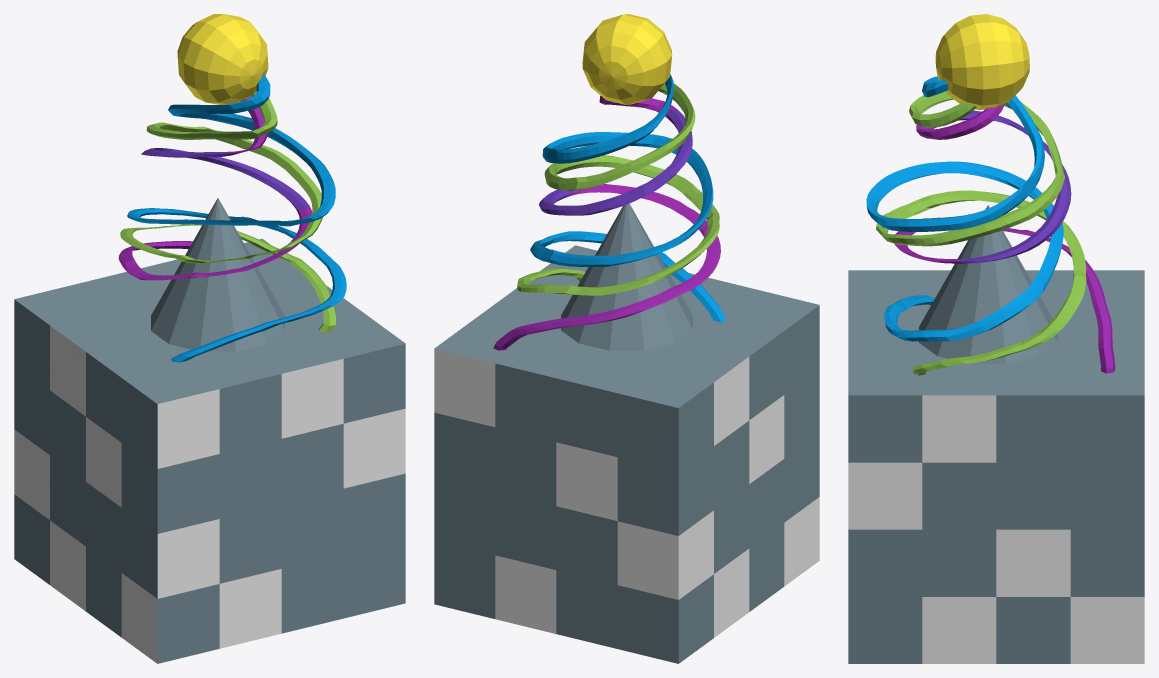
3 views of the same model, side by side, from view 1: azimuth 30°, elevation 25°; view 2: azimuth 150°, elevation 25°; view 3: azimuth 270°, elevation 25° (orthographic). The views are drawn at different scales.
Parts seen in each view (by area): view 1: mesh_705144847, mesh_434373693, group_550851454, mesh_2126626066, group_1324222474, group_1786026587; view 2: mesh_705144847, mesh_434373693, group_550851454, group_1786026587, group_1324222474, mesh_2126626066; view 3: mesh_705144847, group_550851454, mesh_434373693, group_1324222474, mesh_2126626066, group_1786026587.
Part boxes in pixels (bbox=[...]): mesh_705144847: bbox=[14, 238, 405, 663]; mesh_434373693: bbox=[151, 198, 284, 351]; group_550851454: bbox=[127, 74, 346, 362]; mesh_2126626066: bbox=[177, 14, 268, 104]; group_1324222474: bbox=[120, 91, 335, 332]; group_1786026587: bbox=[118, 96, 312, 280]; mesh_705144847: bbox=[434, 245, 819, 663]; mesh_434373693: bbox=[561, 203, 692, 350]; group_550851454: bbox=[530, 74, 726, 322]; group_1786026587: bbox=[493, 95, 720, 350]; group_1324222474: bbox=[517, 83, 719, 295]; mesh_2126626066: bbox=[582, 14, 672, 104]; mesh_705144847: bbox=[848, 270, 1144, 663]; group_550851454: bbox=[866, 76, 1063, 341]; mesh_434373693: bbox=[919, 205, 1057, 363]; group_1324222474: bbox=[876, 91, 1086, 375]; mesh_2126626066: bbox=[935, 14, 1029, 109]; group_1786026587: bbox=[894, 104, 1115, 373].
Size of the model in its own units: 201 by 437 by 201.
